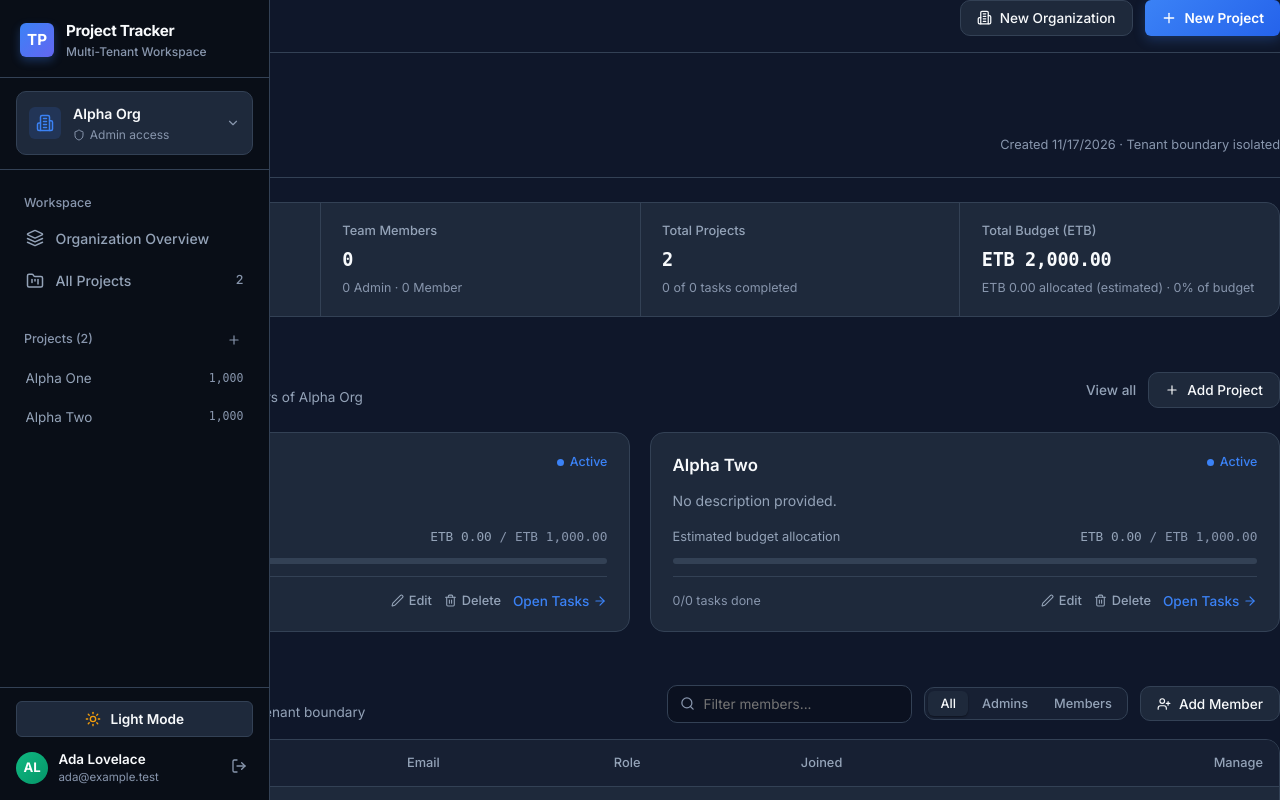
Scenario: Sidebar stays in sync with project changes made on the dashboard › deleting a project decreases the count and removes it from the sidebar
The width and height of the screenshot is (1280, 800).
Click the button with aria-label "Delete project Alpha Two" at (1122, 601), box [1094,594,1151,608]
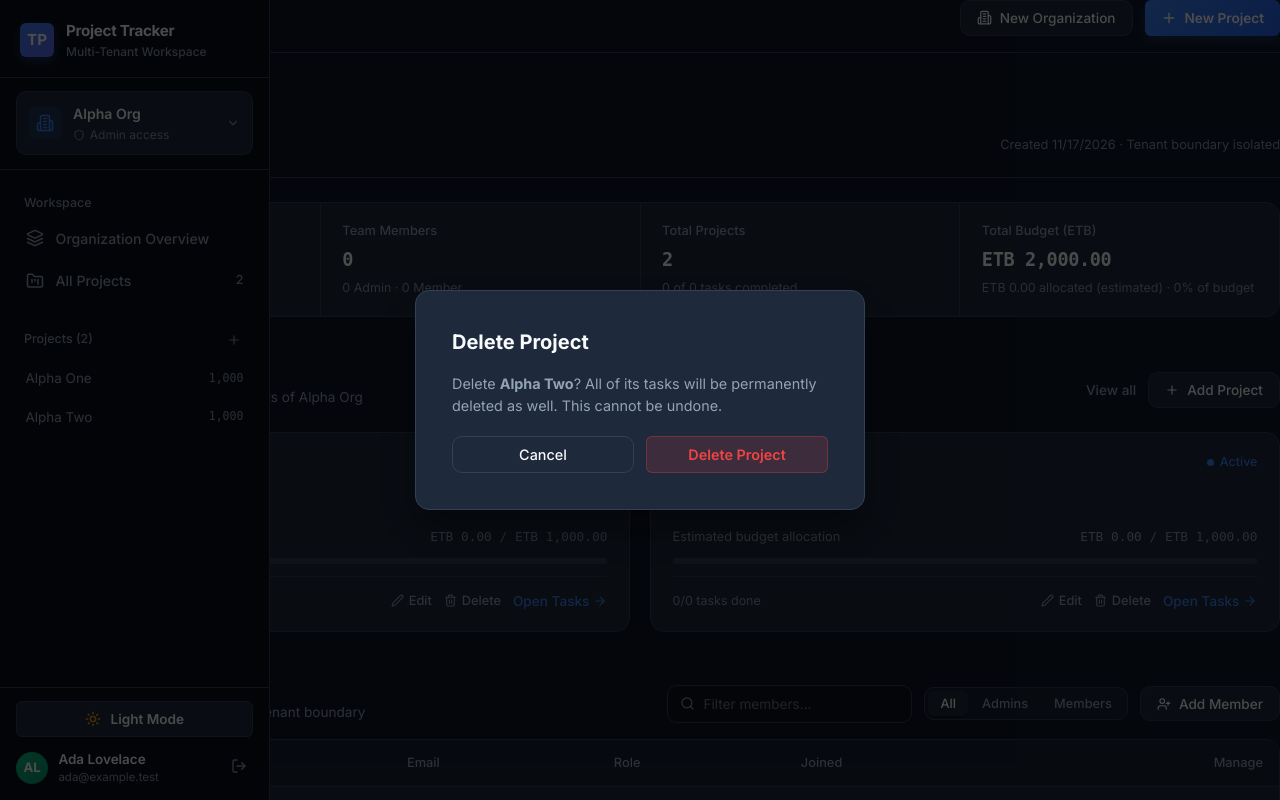
Click the button "Delete Project" at (737, 455), box [646,436,828,473]
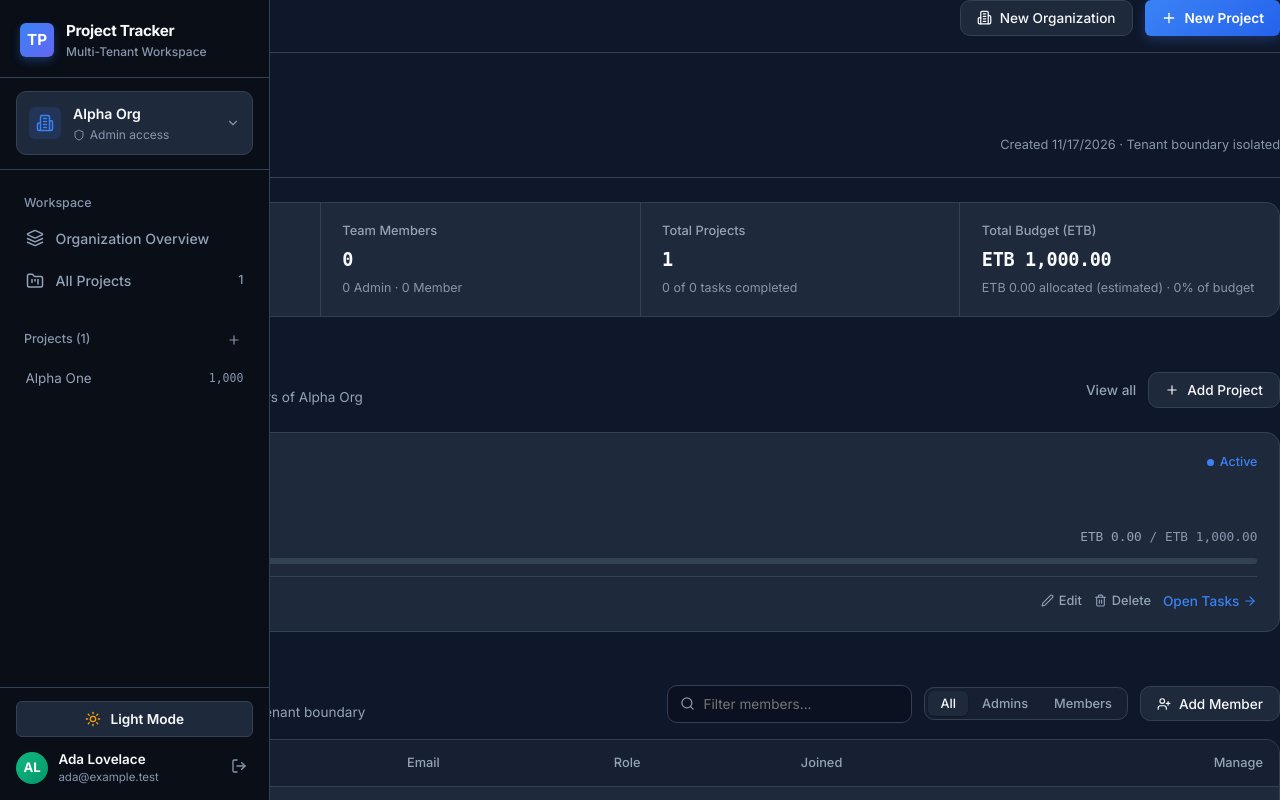
Now the text "Projects (1)" is shown, box [24,330,90,349]
